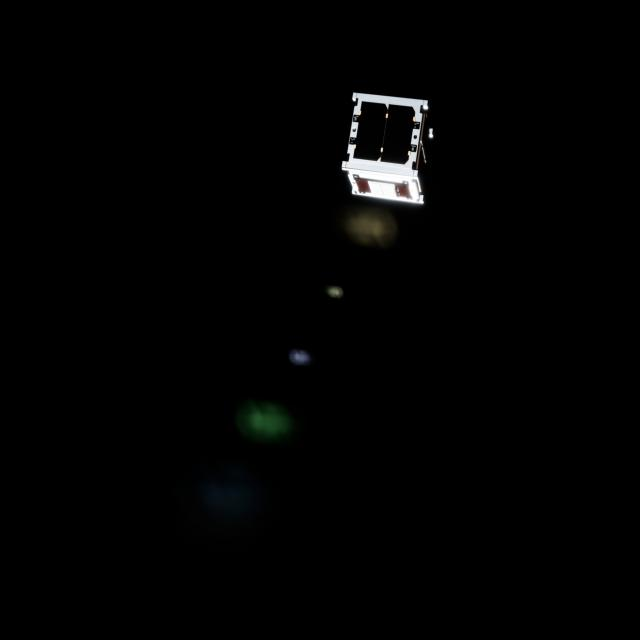satellite: (344, 90, 444, 202)
